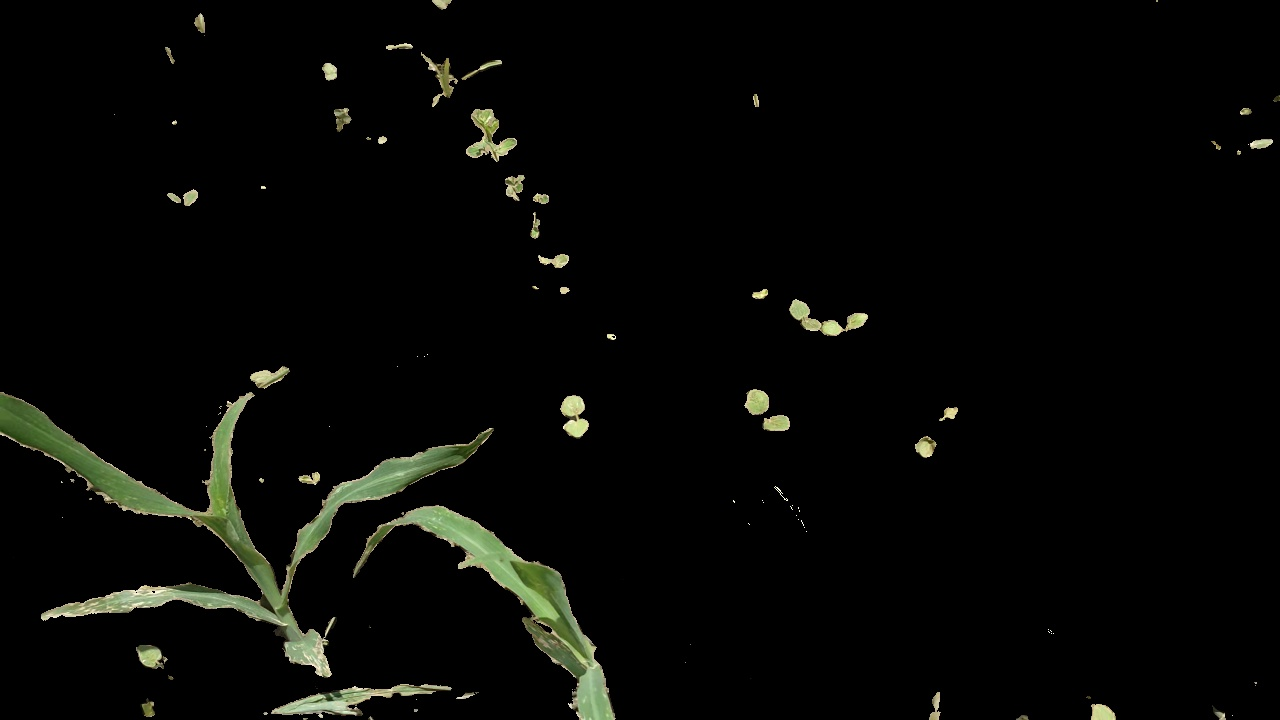crop: (2, 389, 372, 667), (348, 501, 623, 720), (346, 499, 621, 718)
weed: (783, 288, 872, 342), (455, 111, 529, 161), (913, 401, 961, 471), (553, 381, 598, 439), (745, 391, 793, 437), (163, 181, 200, 214), (535, 252, 571, 278)
